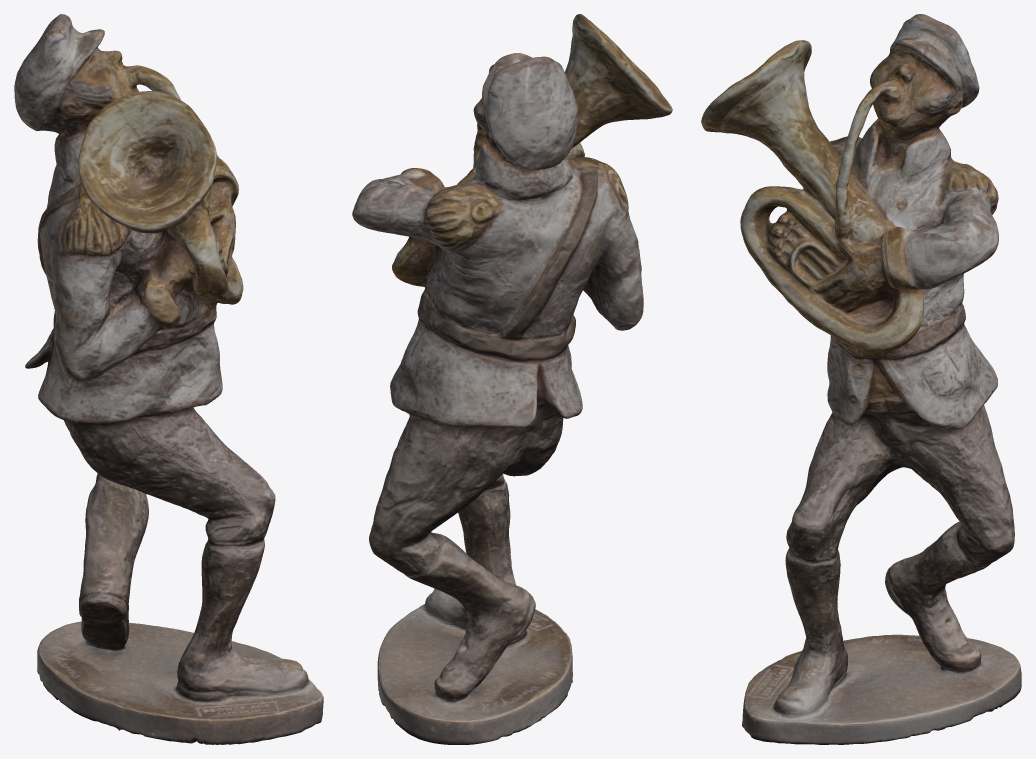
Rendered from khanna-untitled-bandsman.glb.
3 views of the same model, side by side, from view 1: azimuth 30°, elevation 25°; view 2: azimuth 150°, elevation 25°; view 3: azimuth 270°, elevation 25° (orthographic). The views are drawn at different scales.
Parts seen in each view (by area): view 1: 27_Krishan_Khanna_04_LOD2; view 2: 27_Krishan_Khanna_04_LOD2; view 3: 27_Krishan_Khanna_04_LOD2.
Boxes of the visible parts, left/top/right/bottom form: 27_Krishan_Khanna_04_LOD2: left=14, top=14, right=323, bottom=744; 27_Krishan_Khanna_04_LOD2: left=352, top=14, right=672, bottom=744; 27_Krishan_Khanna_04_LOD2: left=701, top=14, right=1021, bottom=744.
Size of the model in its own units: 17 by 45.58 by 20.61.
Materials: 1 (1 with a texture image).
